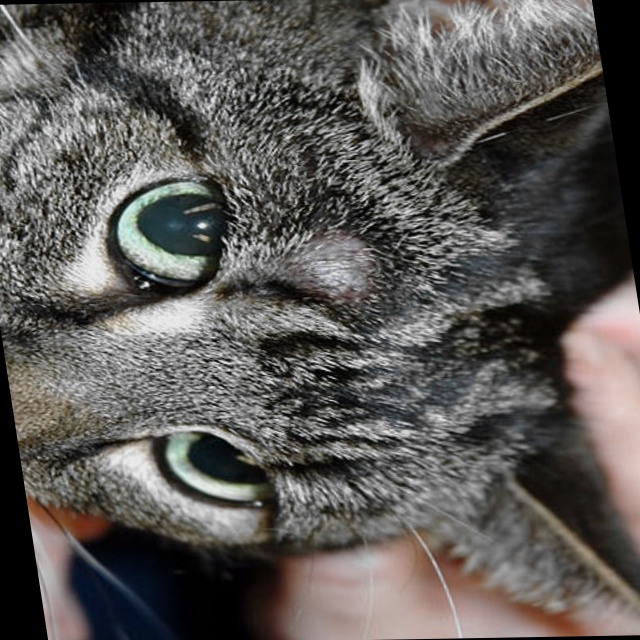lump_and_bump: (283, 232, 382, 302)
